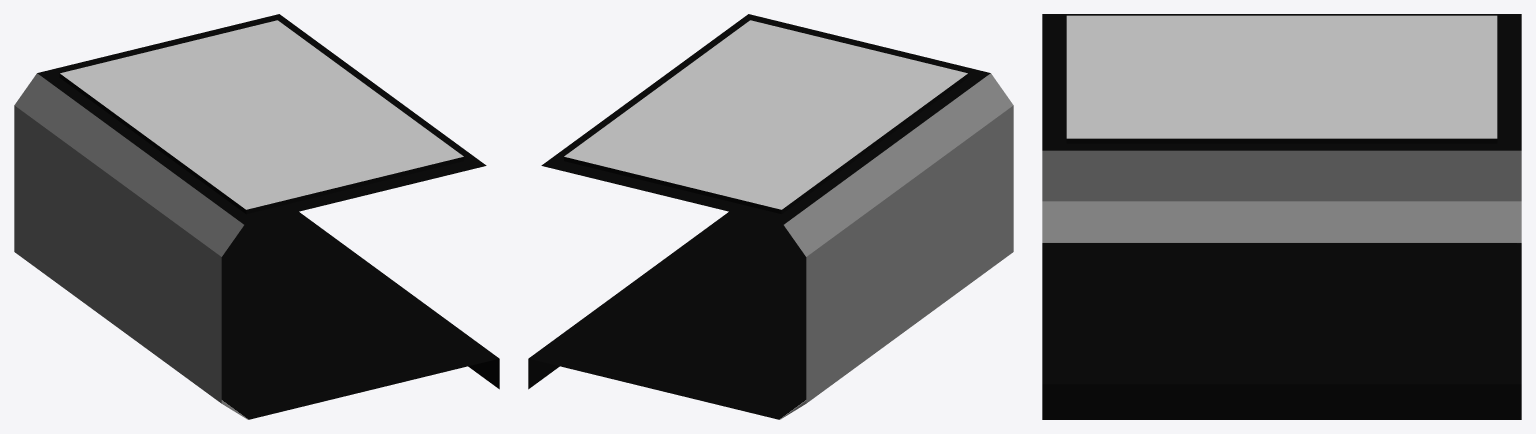
File: StraightHallway.dae
3 views of the same model, side by side, from view 1: azimuth 30°, elevation 25°; view 2: azimuth 150°, elevation 25°; view 3: azimuth 270°, elevation 25° (orthographic). The views are drawn at different scales.
Parts seen in each view (by area): view 1: StraightHallway; view 2: StraightHallway; view 3: StraightHallway.
Boxes of the visible parts, <box> form: StraightHallway: <box>14,14,499,419</box>; StraightHallway: <box>528,14,1013,419</box>; StraightHallway: <box>1042,14,1521,419</box>.
Size of what is drawn, in the model's own units: 9.65 by 12.47 by 7.67.
